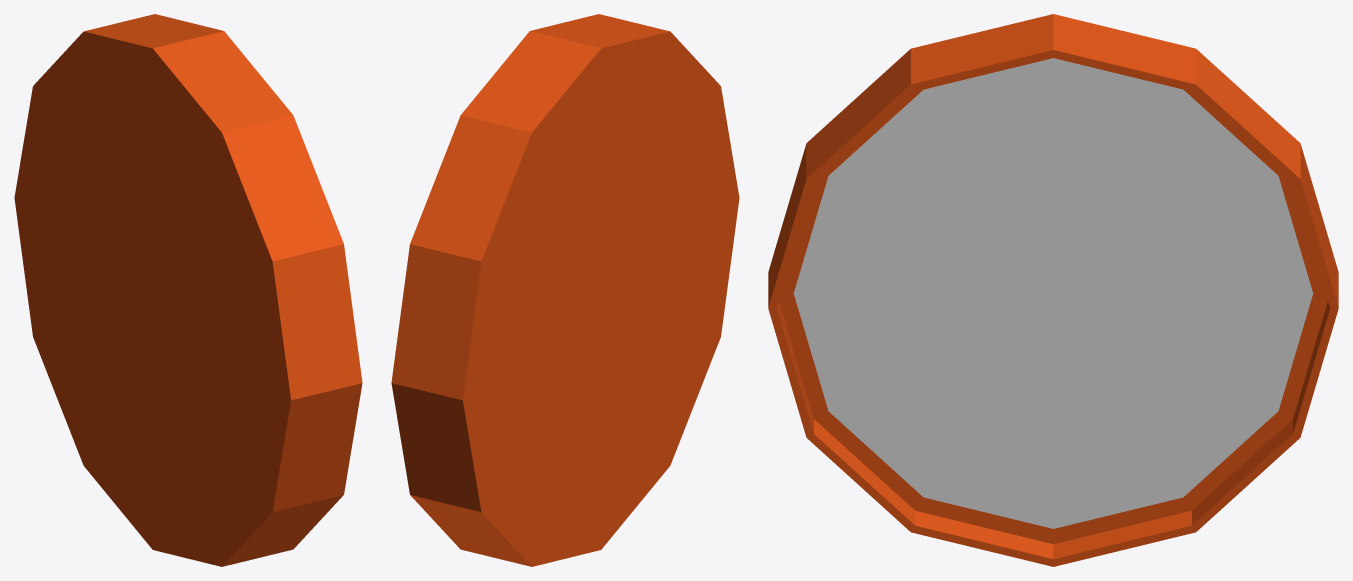
Rendered from Circle Mirror.fbx.
3 renders of one model, left to right at view 1: azimuth 30°, elevation 25°; view 2: azimuth 150°, elevation 25°; view 3: azimuth 270°, elevation 25°, orthographic. The views are drawn at different scales.
Parts seen in each view (by area): view 1: Circle Mirror; view 2: Circle Mirror; view 3: Circle Mirror.
Part boxes in pixels (x1=…): Circle Mirror: x1=14, y1=14, x2=362, y2=566; Circle Mirror: x1=391, y1=14, x2=739, y2=566; Circle Mirror: x1=768, y1=14, x2=1338, y2=566.
Bounding box in the file's own units: 29.81 × 200 × 200.
